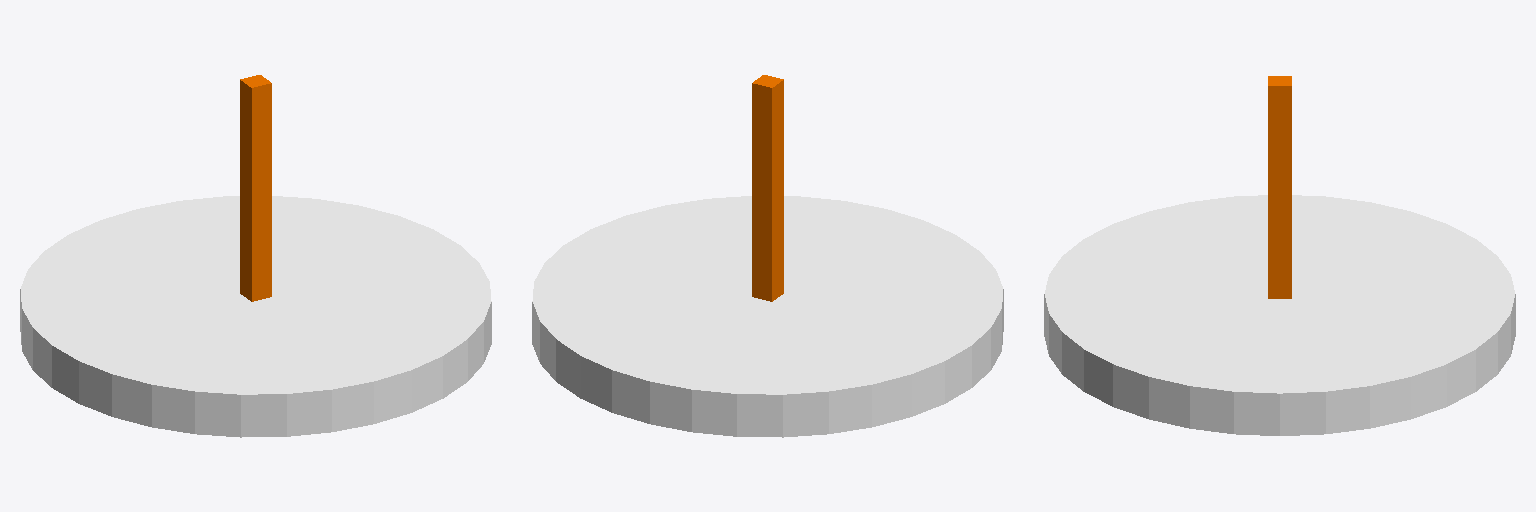
The robot description file, URDF, robot "1DOF_ROBOT":
<robot name="1DOF_ROBOT">
  <link name="world"/>
  <joint name="fixed" type="fixed">
    <parent link="world"/>
    <child link="base_link"/>
  </joint>
    
  <link name="base_link">
    <visual>
      <origin xyz="0 0 0.1" rpy="0 0 0"/>
      <geometry>
        <cylinder radius="1.0" length="0.2"/>
      </geometry>
      <material name="white">
        <color rgba="1.0 1.0 1.0 1.0"/>
      </material>
    </visual>
  </link>

  <joint name="joint1" type="revolute">
    <parent link="base_link"/>
    <child link="link2"/>
    <origin xyz="0 0 0.2" rpy="0 0 0"/>
    <axis xyz="1 0 0"/>
    <limit effort="100" velocity="1.0" lower="-1.57" upper="1.57"/>
  </joint>

  <link name="link2">
    <visual>
    <origin xyz="0 0 0.5" rpy="0 0 0"/>
      <geometry>
        <box size="0.1 0.1 1.0"/>
      </geometry>
      <material name="orange">
        <color rgba="1.0 0.5 0.0 1.0"/>
      </material>
    </visual>
  </link>
</robot>

--- Facts derived from the render (not from the file) ---
3 views of the same robot in one strip: view 1: azimuth 30°, elevation 25°; view 2: azimuth 150°, elevation 25°; view 3: azimuth 270°, elevation 25° (orthographic).
Model 1DOF_ROBOT with 3 links and 2 joints (1 revolute, 1 fixed), rooted at world, posed all joints at 0.
Links seen in each view (by area): view 1: base_link, link2; view 2: base_link, link2; view 3: base_link, link2.
Link boxes in pixels (bbox=[...]): base_link: bbox=[20, 196, 491, 437]; link2: bbox=[240, 75, 271, 301]; base_link: bbox=[532, 196, 1003, 437]; link2: bbox=[752, 75, 783, 301]; base_link: bbox=[1044, 195, 1515, 435]; link2: bbox=[1268, 76, 1291, 298].
Size in the robot's own frame: 2 by 2 by 1.2 metres.
Geometry: primitives only (box / cylinder / sphere), no mesh files.